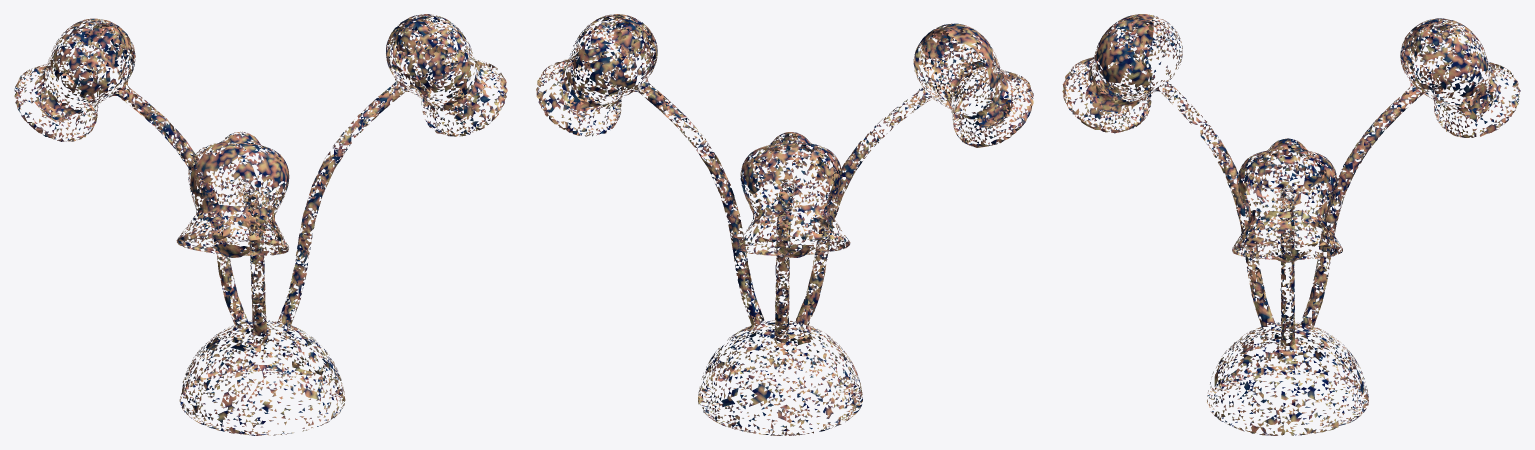
Rendered from lamp_final300.obj.
3 renders of one model, left to right at view 1: azimuth 30°, elevation 25°; view 2: azimuth 150°, elevation 25°; view 3: azimuth 270°, elevation 25°, orthographic.
Size of the model in its own units: 1.59 by 1.32 by 1.62.
